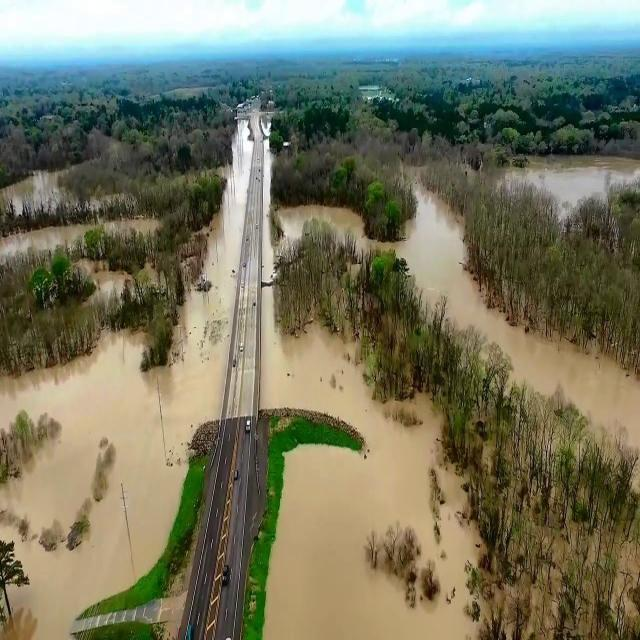flooded_areas: (5, 109, 639, 639)
